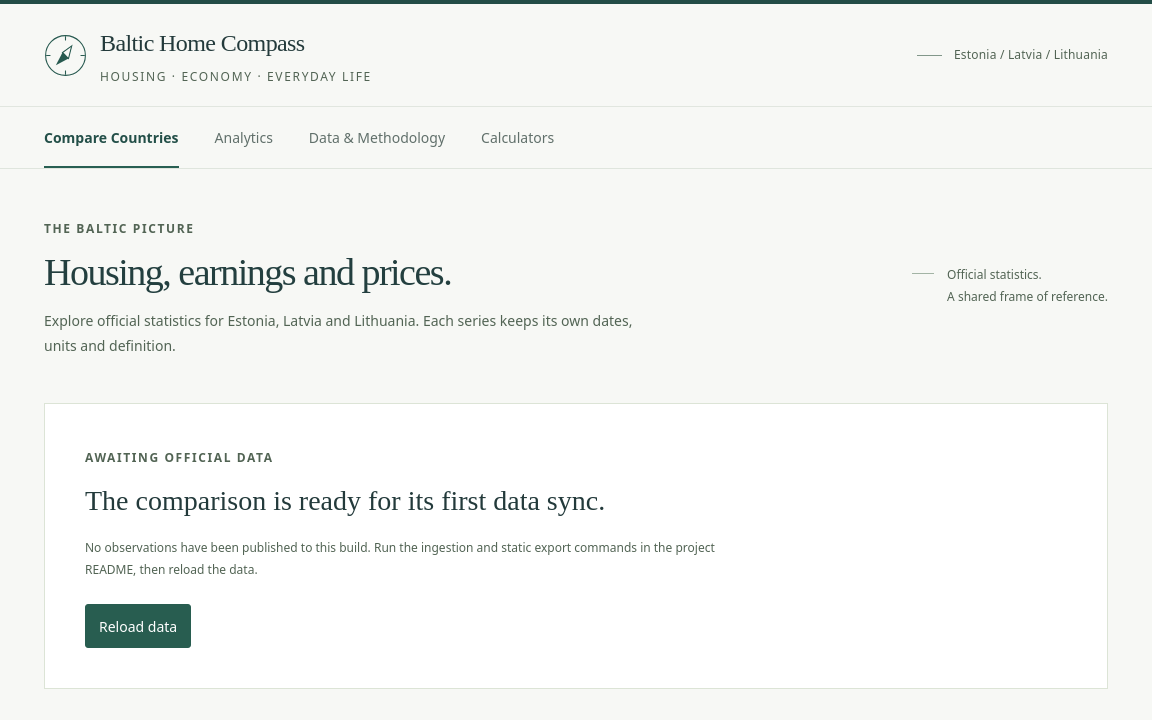
Scenario: data states › shows an honest empty state and keeps calculators available
Check: the heading "The comparison is ready for its first data sync." is shown, box [85,485,605,516]
Check: the link "Calculators" is enabled, box [481,128,554,147]
Click the link "Data & Methodology": coordinates (377, 138) [309,128,445,147]
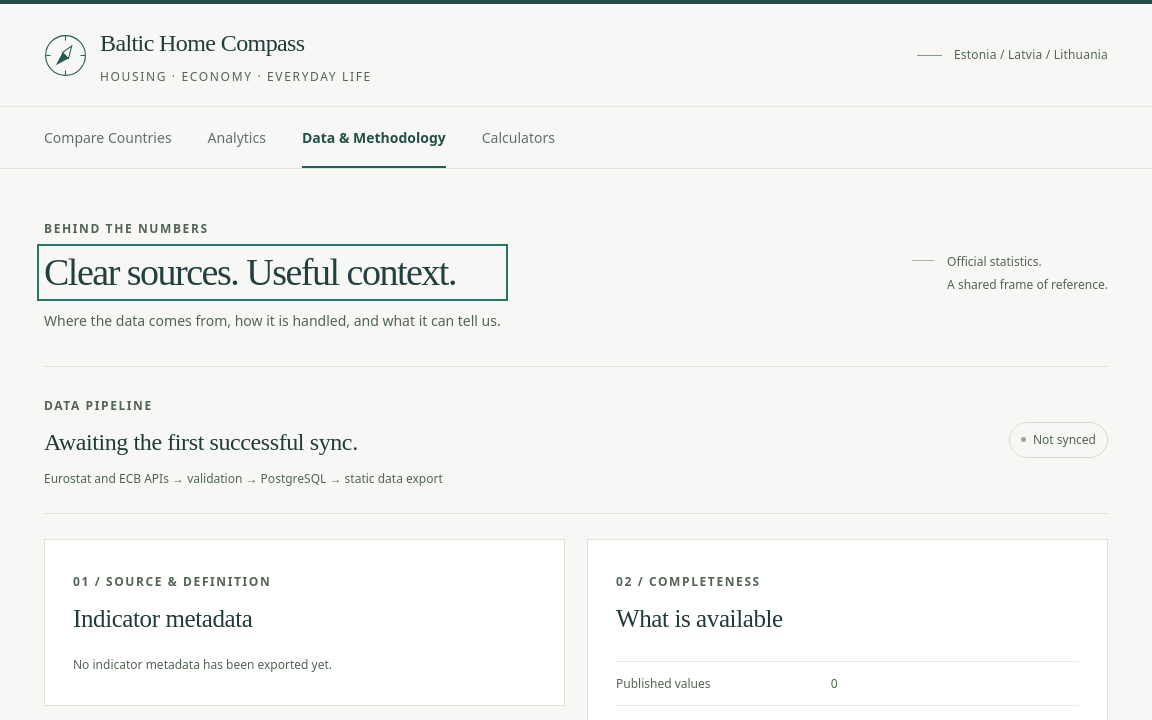
Check: the heading "Awaiting the first successful sync." is shown, box [44,429,358,455]
